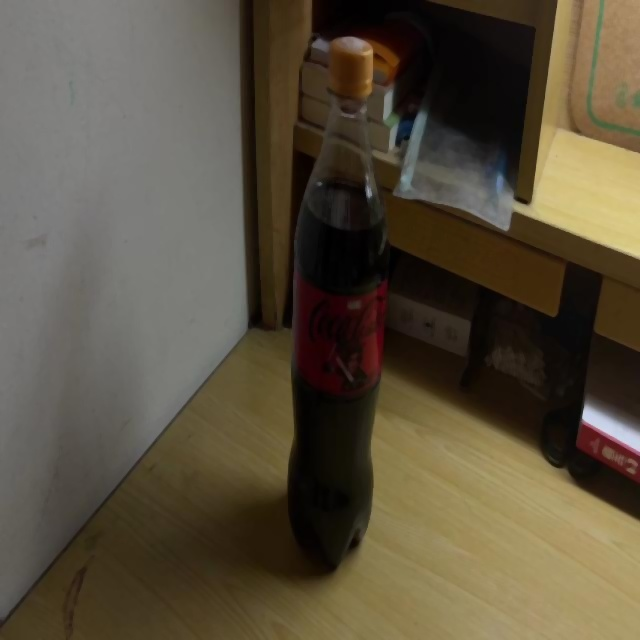Coca-Cola: (287, 34, 388, 577)
